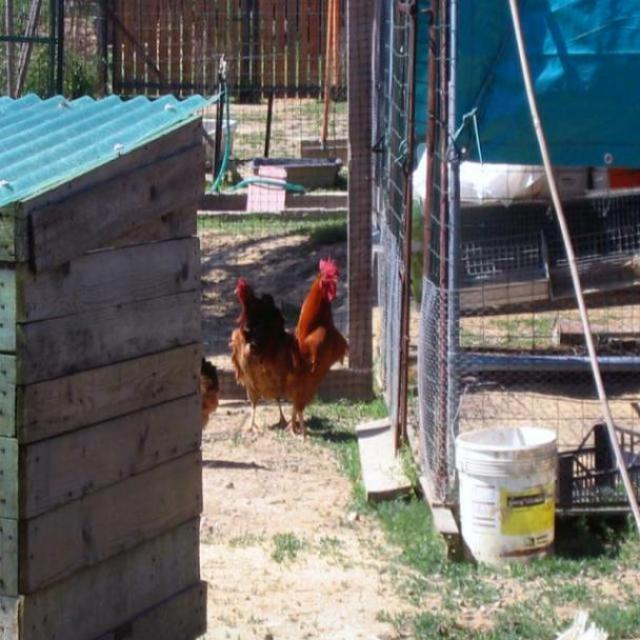Chicken: (244, 251, 352, 418), (222, 278, 293, 438), (195, 355, 224, 438)
